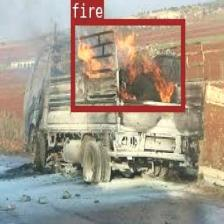fire: (70, 18, 184, 111)
